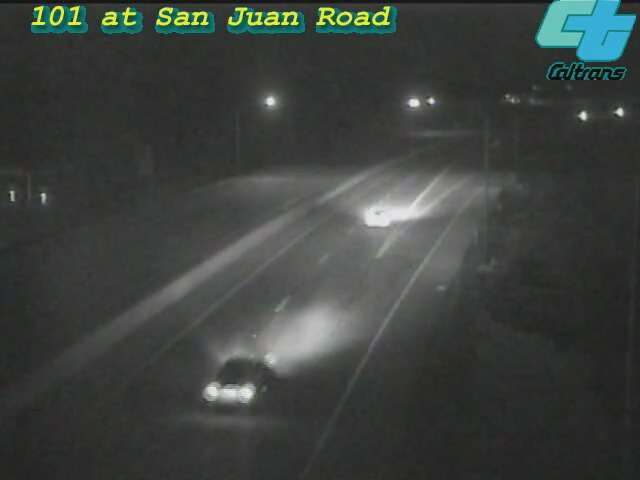vehicle: (179, 336, 289, 446), (339, 177, 419, 257), (554, 91, 604, 141), (595, 87, 640, 137)
